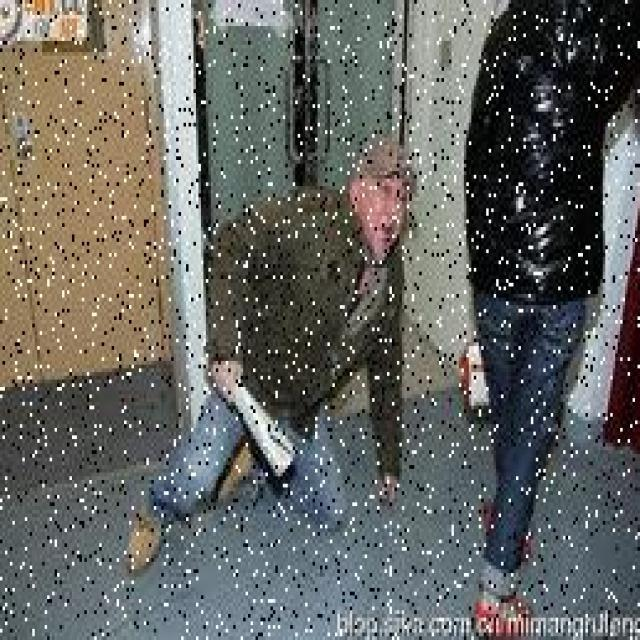fall: (119, 126, 414, 570)
